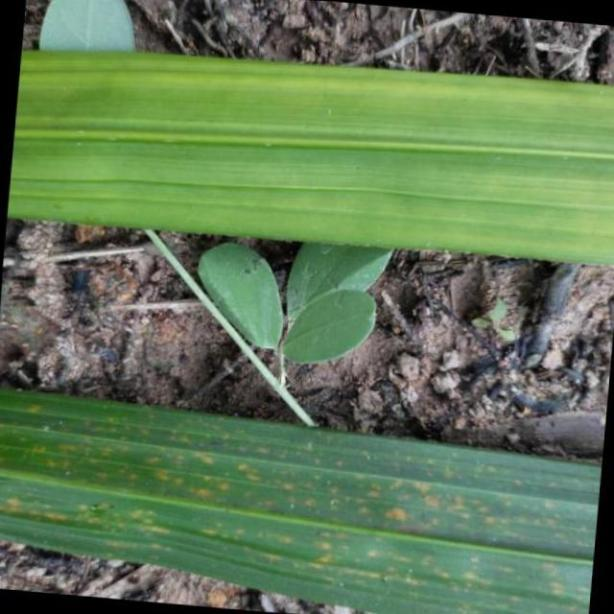nitrogen: (11, 43, 614, 264)
